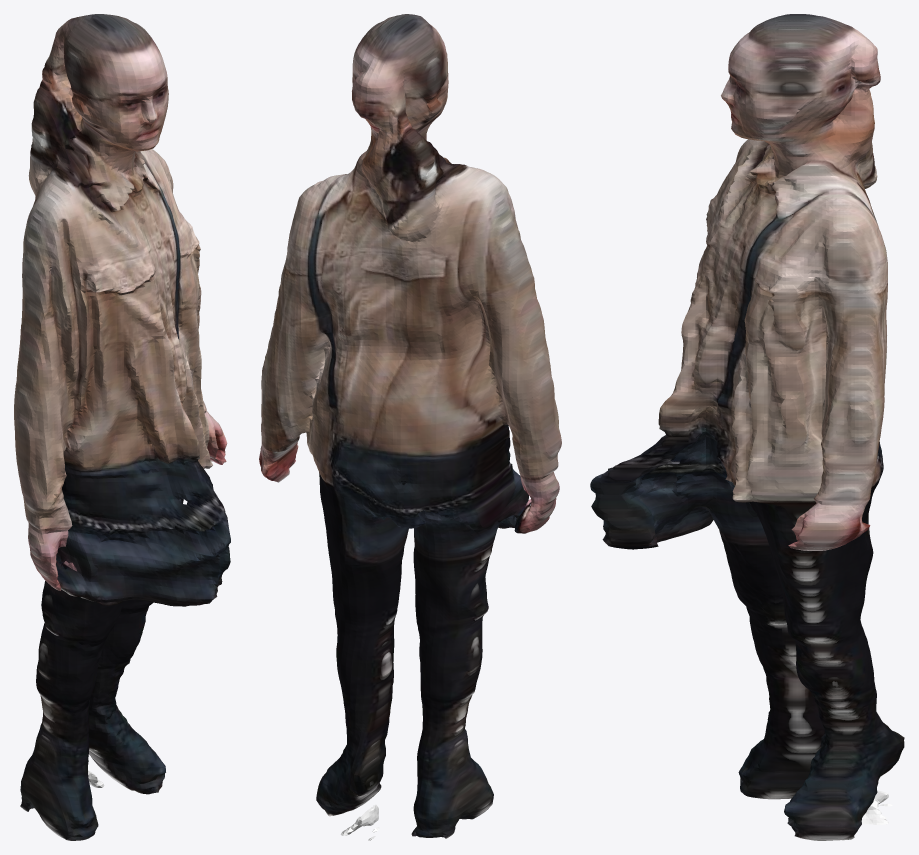
The model's file is my_photo_obj.glb.
3 views of the same model, side by side, from view 1: azimuth 30°, elevation 25°; view 2: azimuth 150°, elevation 25°; view 3: azimuth 270°, elevation 25° (orthographic).
Parts seen in each view (by area): view 1: result_photo2_256; view 2: result_photo2_256; view 3: result_photo2_256.
Part boxes in pixels (x1,y1,x2,y2): result_photo2_256: [14, 14, 230, 840]; result_photo2_256: [259, 14, 561, 840]; result_photo2_256: [590, 14, 904, 840].
Size of the model in its own units: 0.6028 by 1.9 by 0.6763.
Materials: 1 (1 with a texture image).
